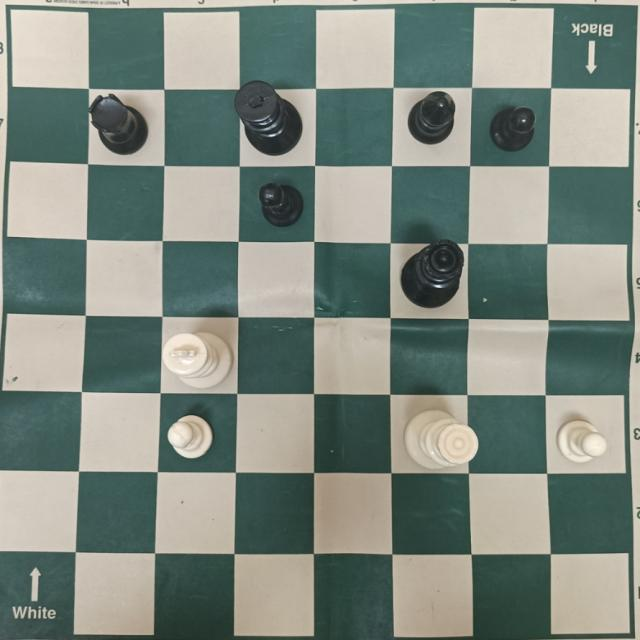black-bishop: (410, 90, 455, 143)
black-king: (236, 83, 302, 157)
black-pawn: (491, 106, 535, 152), (261, 181, 303, 225)
black-queen: (402, 239, 463, 307)
black-rook: (90, 94, 148, 155)
white-king: (163, 331, 233, 390)
white-pawn: (555, 418, 607, 463), (166, 415, 213, 459)
white-queen: (404, 408, 479, 470)
